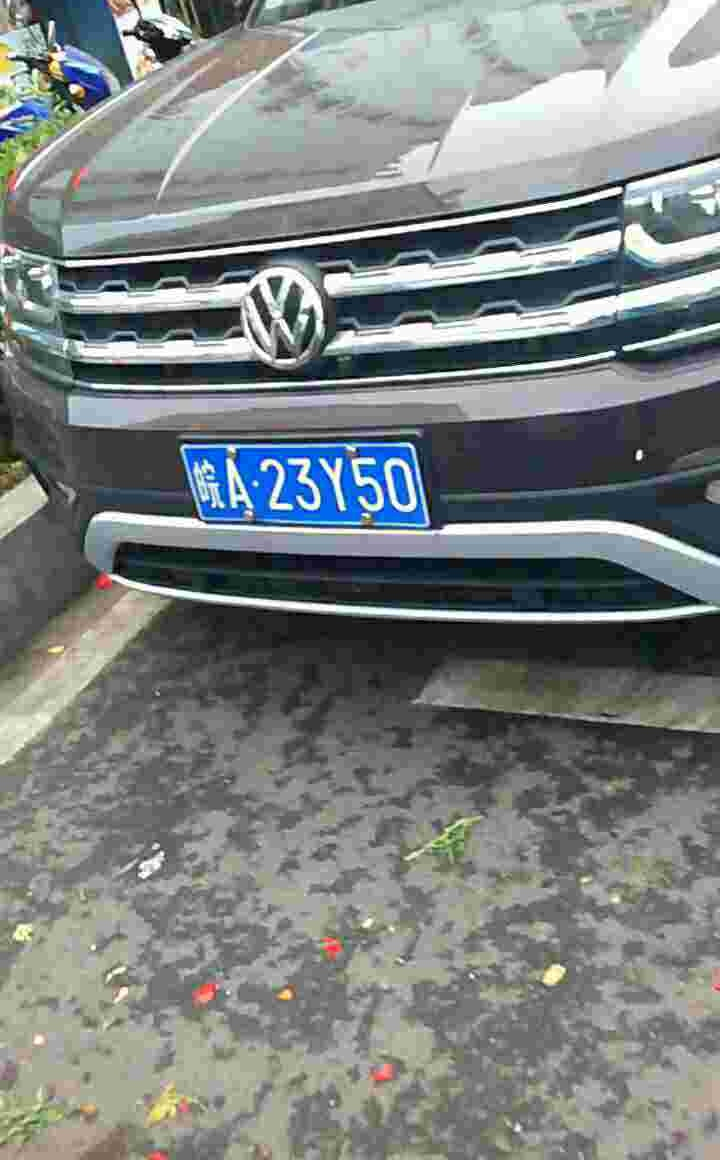plate: (175, 439, 435, 529)
